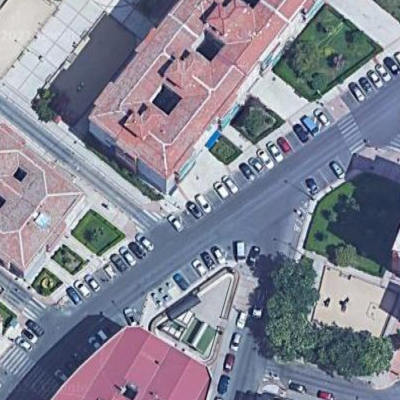tree: (327, 325, 393, 383), (267, 314, 319, 360), (271, 255, 317, 305), (330, 240, 362, 273), (308, 71, 330, 94), (347, 27, 367, 51)
